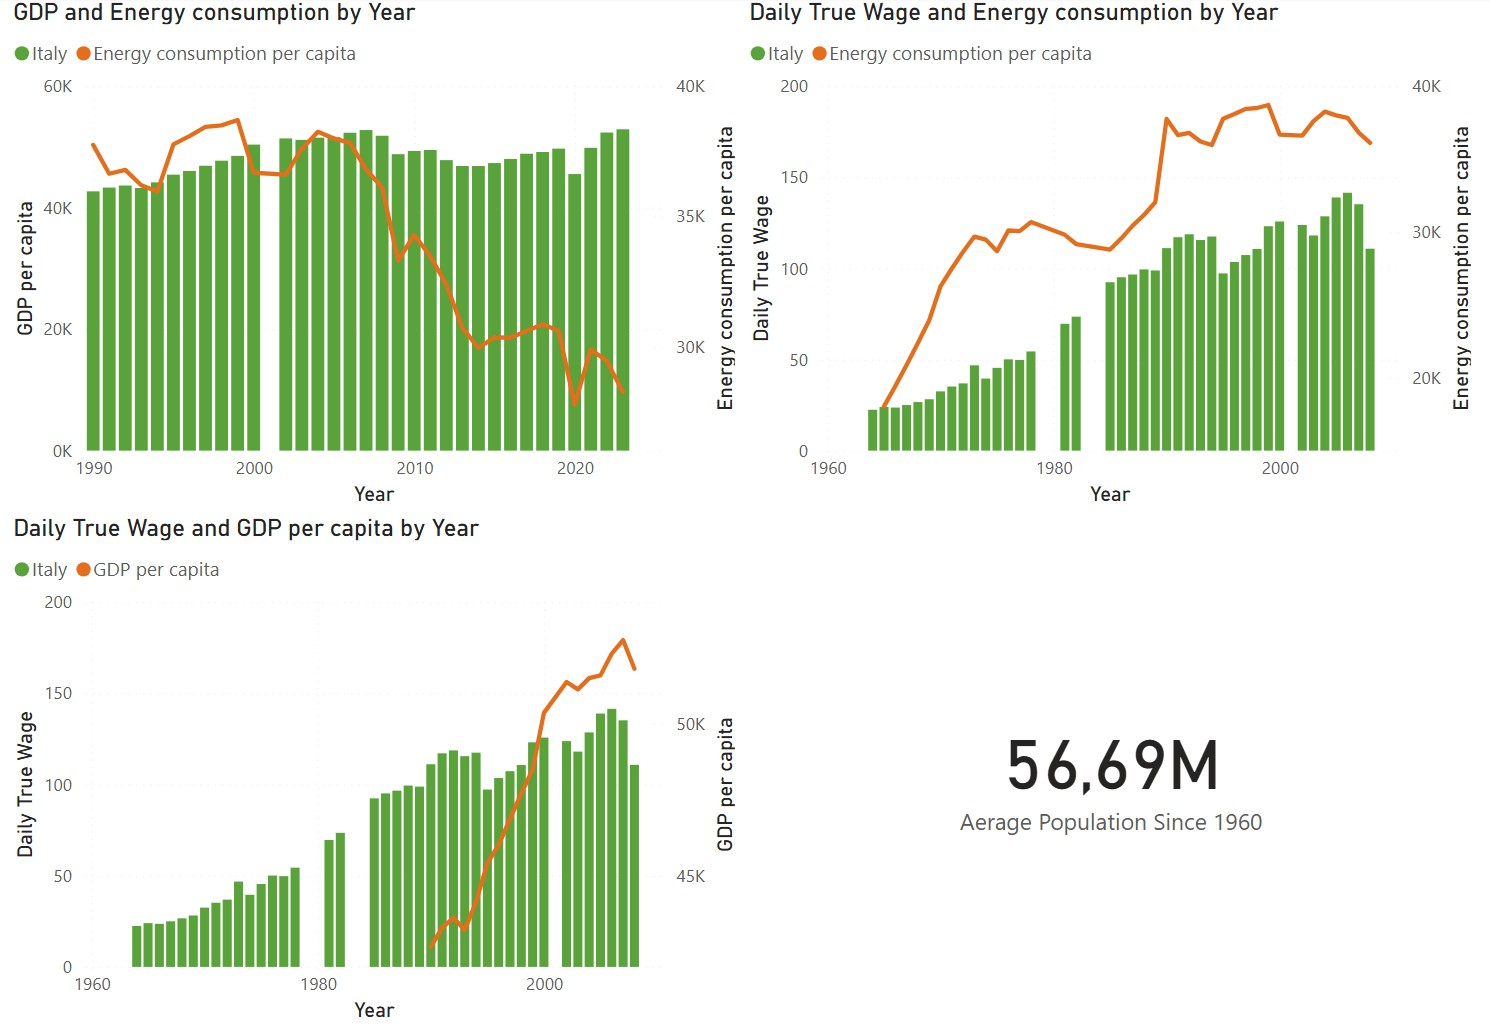

The page's visual inventory and layout, read from the dashboard file:
{"tool":"powerbi","page":{"name":"Italy","canvas":[1280,720],"ordinal":1},"visuals":[{"type":"lineStackedColumnComboChart","title":"GDP and Energy consumption by Year","fields":{"Category":["SUMMARY_TABLE.year"],"Series":["SUMMARY_TABLE.country"],"Y":["Sum(SUMMARY_TABLE.gdp_per_capita)"],"Y2":["Sum(SUMMARY_TABLE.per_capita_energy_consumption)"]},"box":[126.8,0,513.1,359.5],"z":0},{"type":"lineStackedColumnComboChart","title":"Daily True Wage and Energy consumption by Year","fields":{"Category":["SUMMARY_TABLE.year"],"Series":["SUMMARY_TABLE.country"],"Y":["Sum(SUMMARY_TABLE.daily_true_wage)"],"Y2":["Sum(SUMMARY_TABLE.per_capita_energy_consumption)"]},"box":[639.9,0,513.1,359.5],"z":1000},{"type":"lineStackedColumnComboChart","title":"Daily True Wage and GDP per capita by Year","fields":{"Category":["SUMMARY_TABLE.year"],"Series":["SUMMARY_TABLE.country"],"Y":["Sum(SUMMARY_TABLE.daily_true_wage)"],"Y2":["Sum(SUMMARY_TABLE.gdp_per_capita)"]},"box":[126.5,359.7,513.4,359.7],"z":2000},{"type":"card","fields":{"Values":["SUMMARY_TABLE.Avg Population Post 1959"]},"box":[640.3,359.7,513.2,359.7],"z":3000}]}

Visuals, with their boxes on the page's 1280x720 design canvas (x1, y1, x2, y2). These are canvas units, not pixel positions in the 1490x1030 screenshot, which may show the page scaled, cropped or inside an application window:
"GDP and Energy consumption by Year" lineStackedColumnComboChart: BBox(127, 0, 640, 360)
"Daily True Wage and Energy consumption by Year" lineStackedColumnComboChart: BBox(640, 0, 1153, 360)
"Daily True Wage and GDP per capita by Year" lineStackedColumnComboChart: BBox(126, 360, 640, 719)
card - SUMMARY_TABLE.Avg Population Post 1959: BBox(640, 360, 1154, 719)
